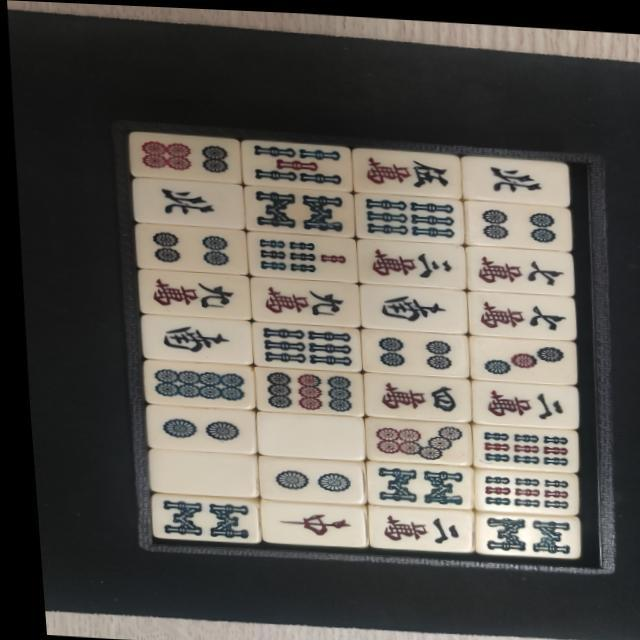hdr: (256, 502, 356, 542)
hdw: (251, 410, 354, 456), (143, 452, 244, 493)
hwn: (132, 178, 235, 223), (462, 156, 563, 198)
hws: (358, 283, 460, 325), (140, 317, 242, 358)
sb5: (243, 140, 344, 183)
sb6: (352, 192, 458, 237), (251, 322, 351, 366)
sb7: (247, 231, 349, 276)
sb8: (243, 186, 348, 232), (362, 460, 463, 504), (148, 495, 246, 539), (470, 509, 570, 552)
sb9: (469, 422, 567, 466), (471, 467, 569, 508)
sc2: (468, 378, 568, 422), (364, 504, 462, 547)
sc3: (357, 238, 458, 282)
sc4: (365, 372, 459, 416)
sc5: (354, 149, 452, 190)
sc7: (464, 288, 568, 332), (465, 245, 565, 288)
sc9: (136, 270, 240, 316), (250, 278, 351, 321)
sd2: (255, 457, 354, 499), (143, 407, 244, 448)
sd3: (468, 334, 567, 376)
sd4: (134, 225, 240, 269), (359, 328, 458, 370), (466, 199, 564, 241)
sd6: (130, 134, 234, 179)
sd7: (362, 416, 462, 459)
sd8: (142, 361, 244, 404)
sd9: (252, 367, 354, 412)
